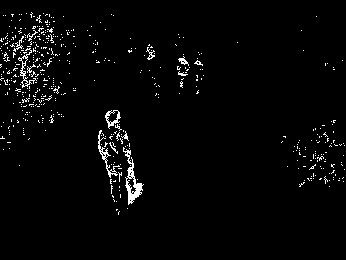person: (98, 107, 144, 213)
